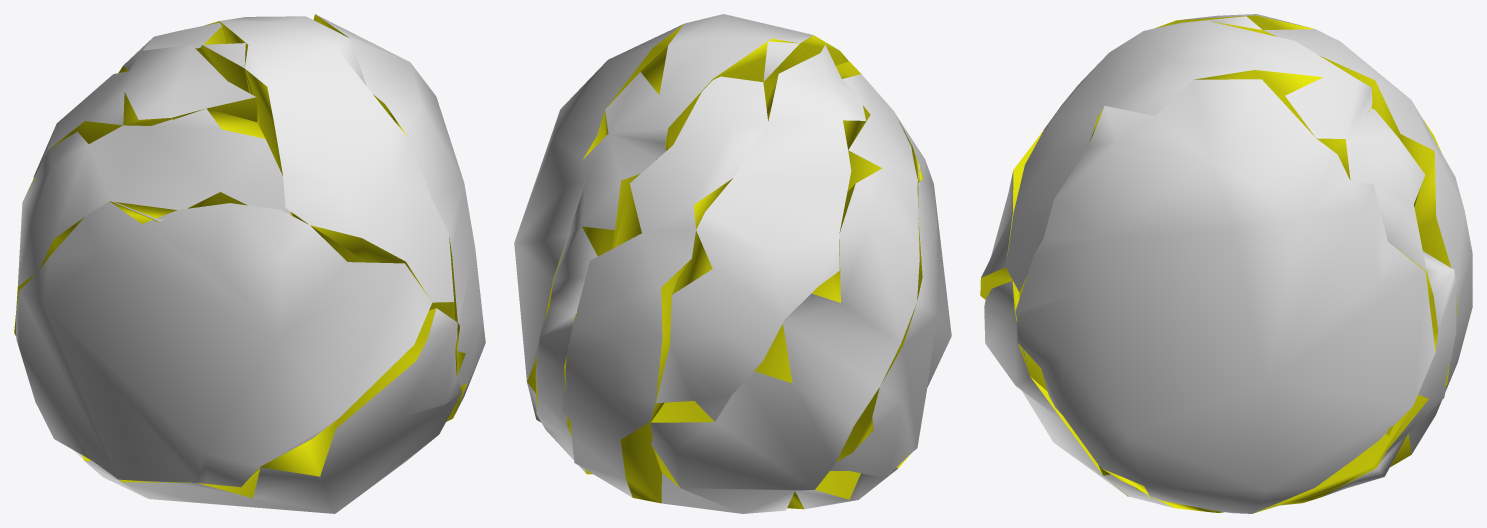
Rendered from DestroyableRock7PieceRock7piece.fbx.
3 renders of one model, left to right at view 1: azimuth 30°, elevation 25°; view 2: azimuth 150°, elevation 25°; view 3: azimuth 270°, elevation 25°, orthographic. The views are drawn at different scales.
Parts seen in each view (by area): view 1: shard13, shard11, shard10, shard9, shard8, shard14, shard12; view 2: shard10, shard14, shard12, shard11, shard8, shard13, shard9; view 3: shard8, shard11, shard12, shard9, shard13, shard14.
Boxes of the visible parts, left/top/right/bottom form: shard13: left=16, top=201, right=432, bottom=487; shard11: left=204, top=16, right=456, bottom=374; shard10: left=14, top=108, right=292, bottom=336; shard9: left=73, top=308, right=461, bottom=513; shard8: left=313, top=14, right=485, bottom=421; shard14: left=33, top=45, right=257, bottom=178; shard12: left=118, top=22, right=262, bottom=125; shard10: left=650, top=61, right=920, bottom=513; shard14: left=643, top=44, right=865, bottom=439; shard12: left=562, top=37, right=811, bottom=503; shard11: left=535, top=14, right=848, bottom=474; shard8: left=514, top=23, right=684, bottom=422; shard13: left=830, top=115, right=951, bottom=477; shard9: left=787, top=454, right=910, bottom=509; shard8: left=1015, top=79, right=1435, bottom=513; shard11: left=1006, top=20, right=1456, bottom=512; shard12: left=1187, top=16, right=1472, bottom=467; shard9: left=984, top=280, right=1128, bottom=496; shard13: left=980, top=110, right=1057, bottom=299; shard14: left=1155, top=14, right=1440, bottom=151.
Bounding box in the file's own units: 457 × 462 × 461.
